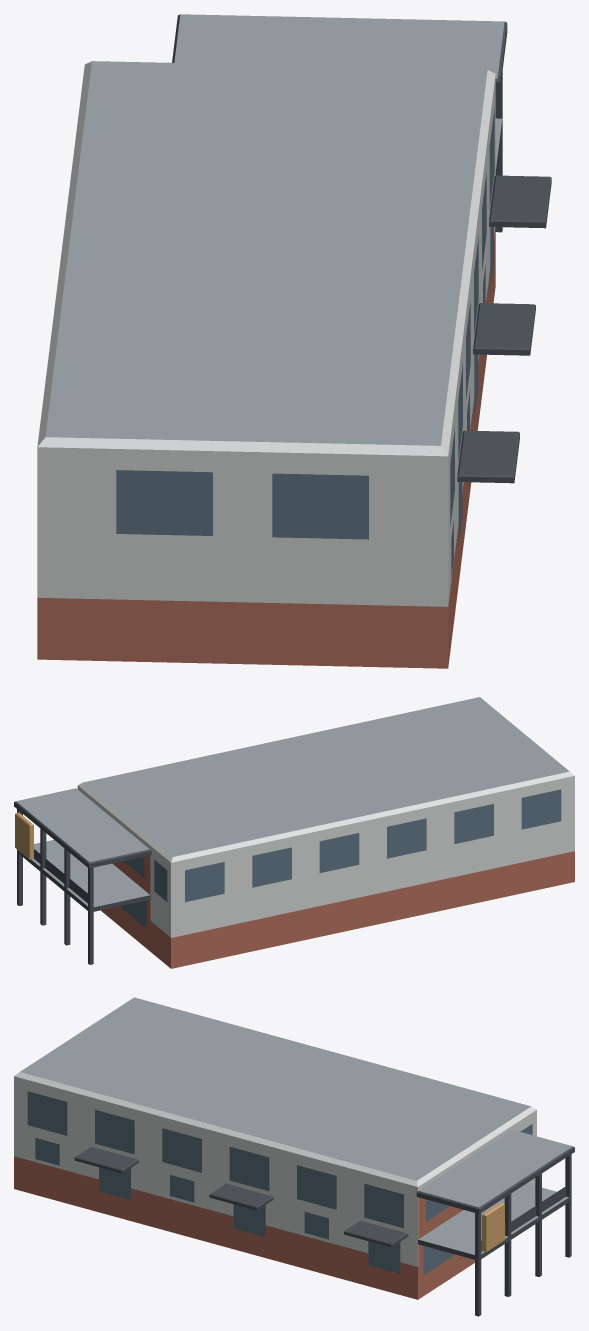
File: detail.glb
The picture shows the model from 3 angles, top to bottom: view 1: azimuth 30°, elevation 25°; view 2: azimuth 150°, elevation 25°; view 3: azimuth 270°, elevation 25°; orthographic projection. The views are drawn at different scales.
Visible parts, largest first — view 1: trolley-barn-fermentory-food-hall; view 2: trolley-barn-fermentory-food-hall; view 3: trolley-barn-fermentory-food-hall.
Boxes of the visible parts, <box> form: trolley-barn-fermentory-food-hall: <box>37,14,551,668</box>; trolley-barn-fermentory-food-hall: <box>14,697,574,968</box>; trolley-barn-fermentory-food-hall: <box>14,997,574,1316</box>.
Bounding box in the file's own units: 41.78 × 11 × 47.98.
